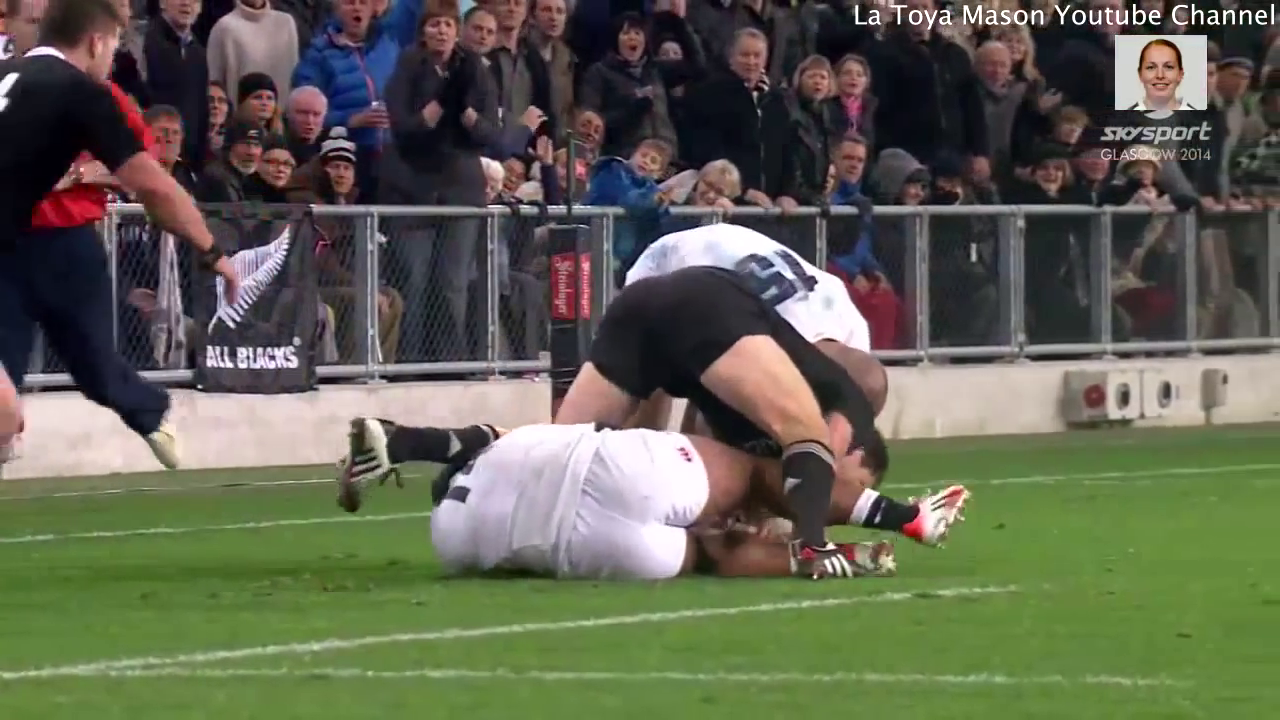player: (326, 254, 873, 592), (1, 1, 241, 494), (397, 415, 983, 579), (612, 205, 902, 392)
ruck: (351, 145, 965, 633)
